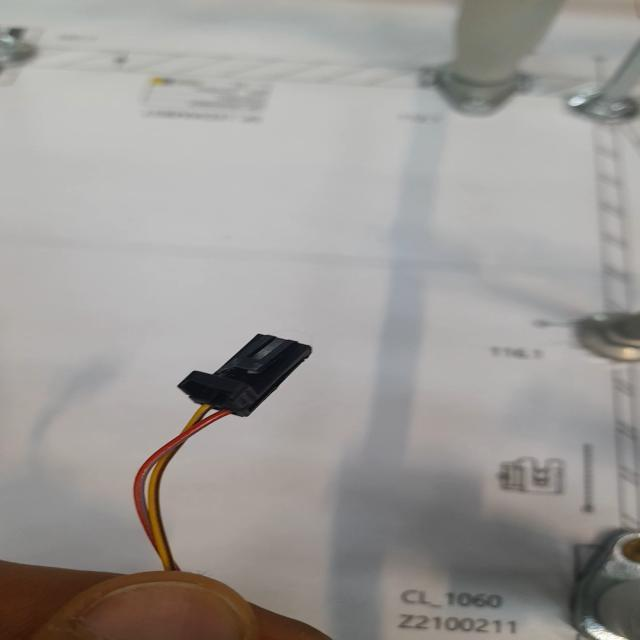connector: (176, 334, 313, 420)
